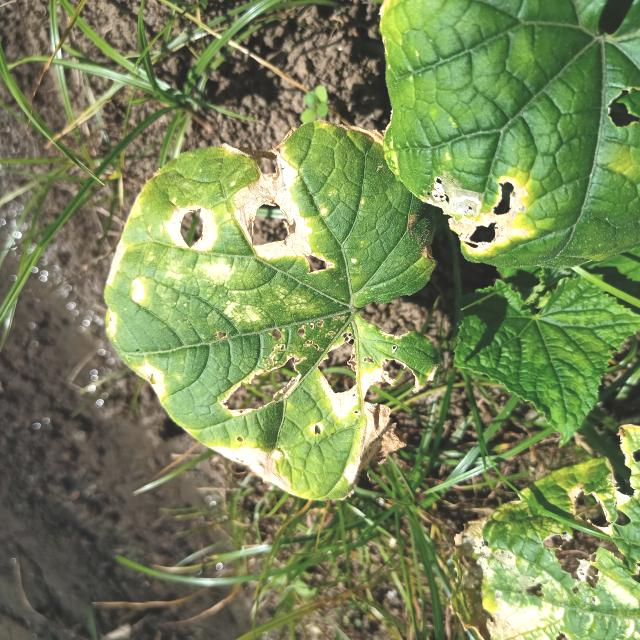disease_cucumber: (111, 157, 401, 485), (451, 165, 538, 258)
